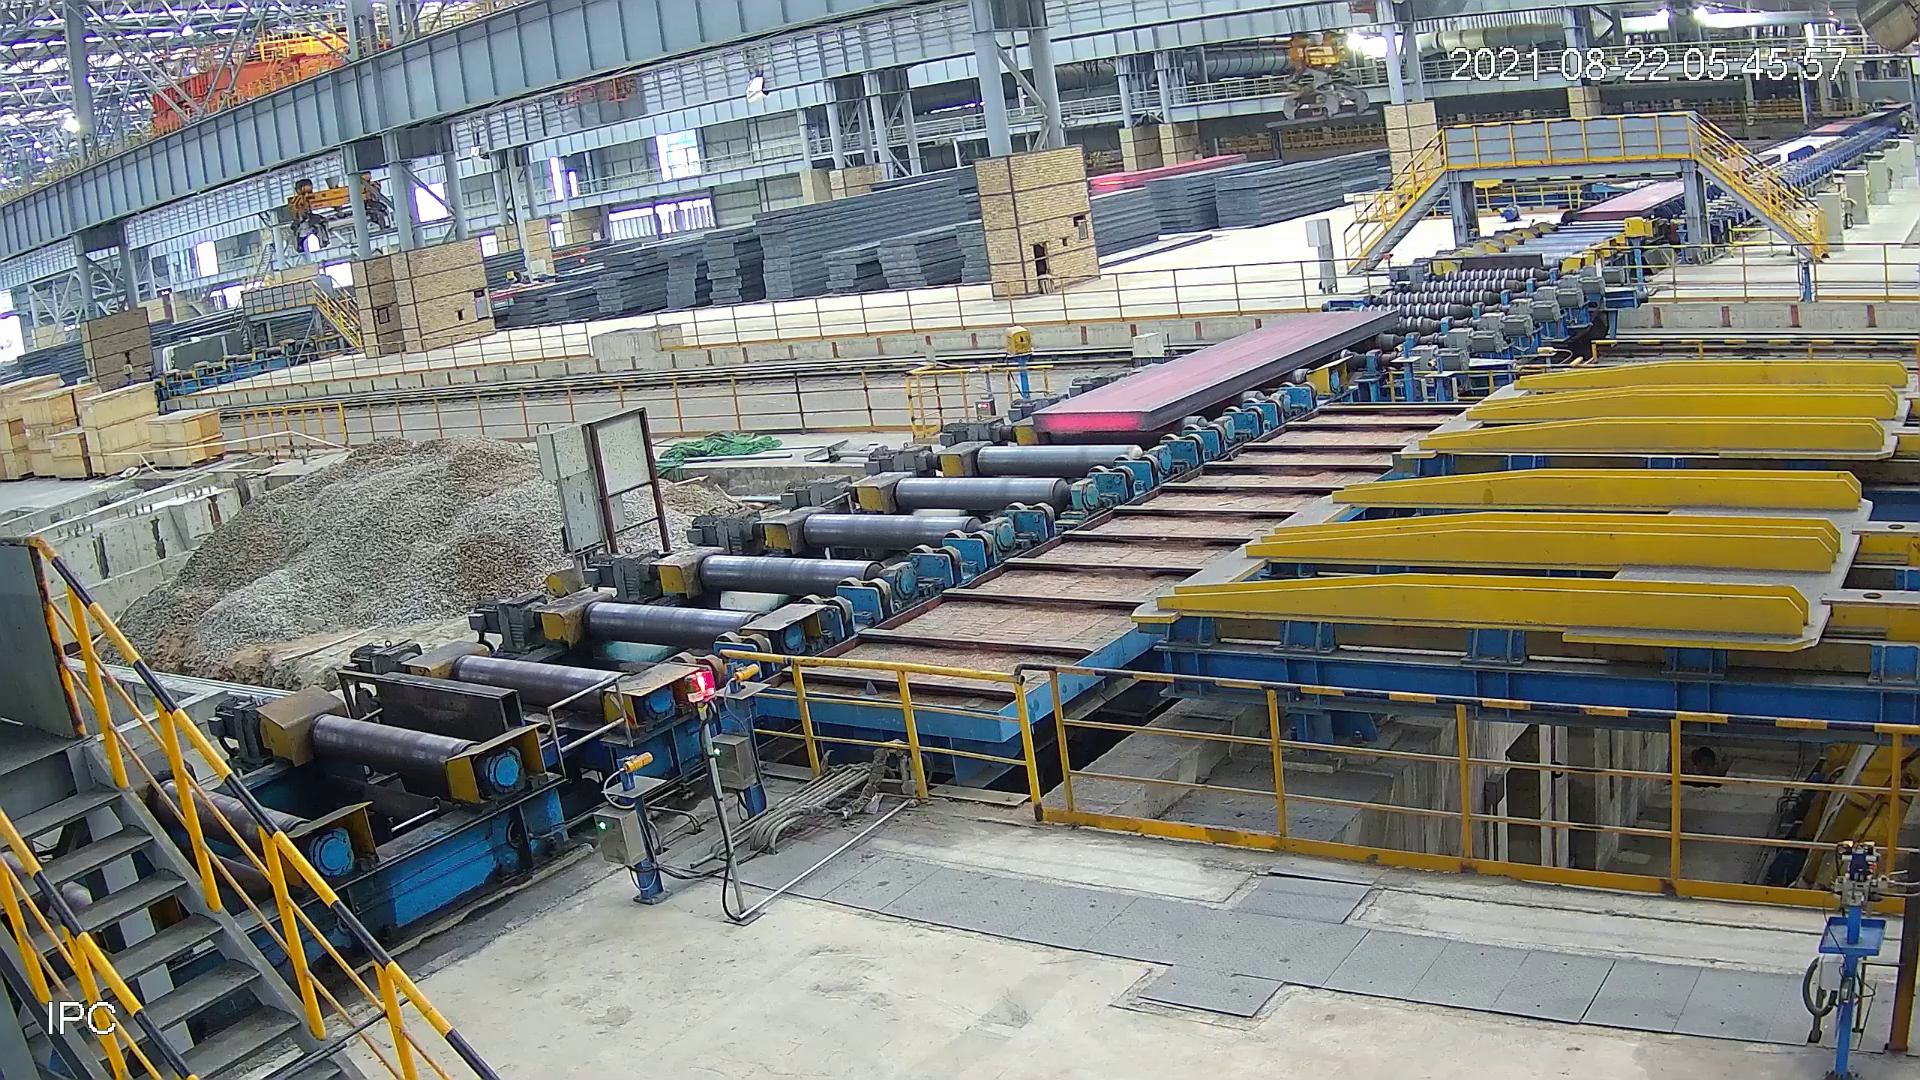slab: (1025, 302, 1408, 440), (1564, 173, 1702, 222)
